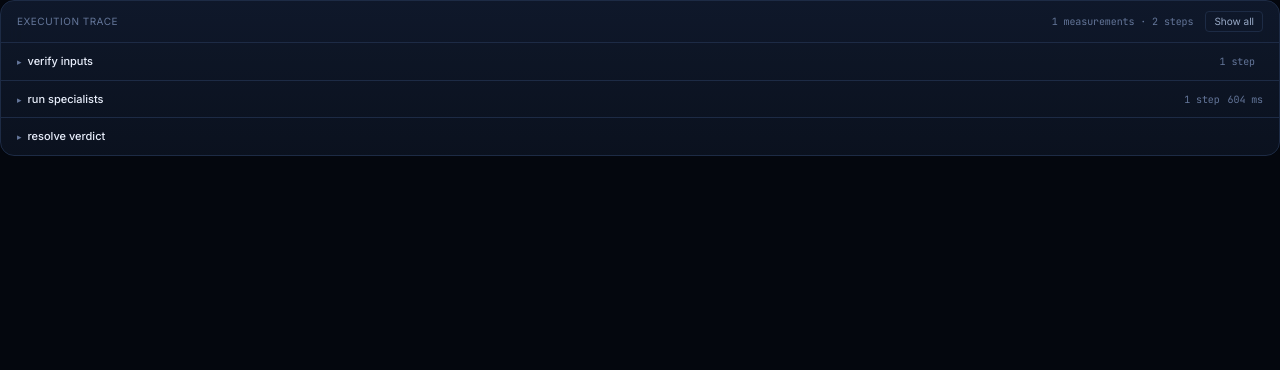
it: RunTracePanel › show all opens everything and collapse all puts it back
Click the button "Show all" at coordinates (1234, 22), box [1205,11,1263,32]
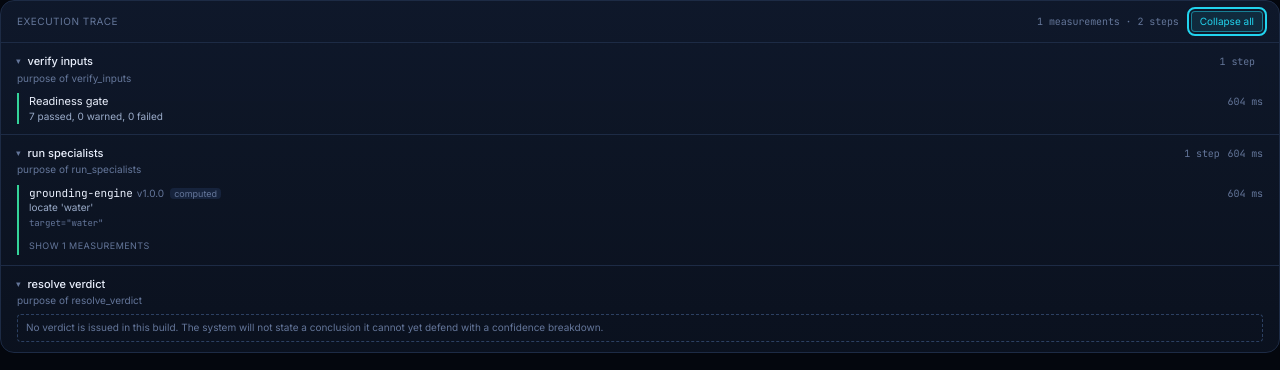
Check: the text "grounding-engine" is shown, box [29,186,133,200]
Click the button "Collapse all" at coordinates (1227, 22), box [1191,11,1263,32]
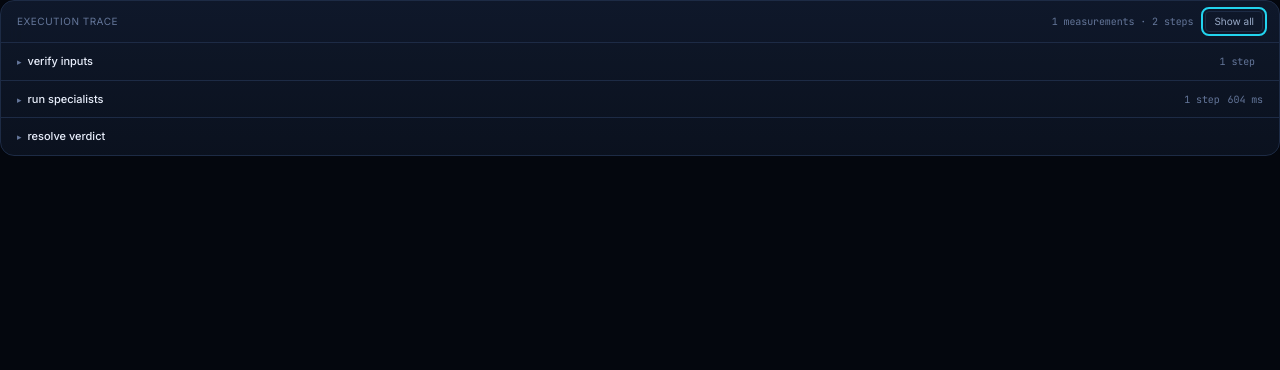
Check: the text "grounding-engine" is gone
